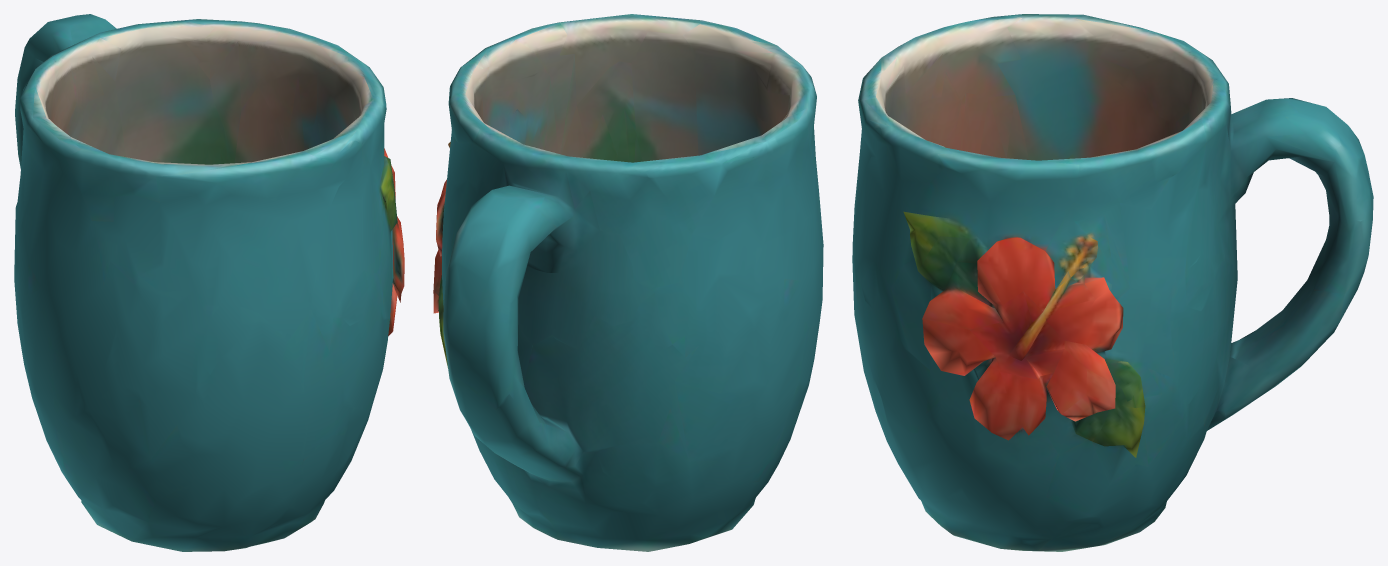
File: SM_Kitchen_Mug.glb
3 renders of one model, left to right at view 1: azimuth 30°, elevation 25°; view 2: azimuth 150°, elevation 25°; view 3: azimuth 270°, elevation 25°, orthographic.
Parts seen in each view (by area): view 1: tripo_node_81b300c0-50aa-4086-b82f-370c9c683764; view 2: tripo_node_81b300c0-50aa-4086-b82f-370c9c683764; view 3: tripo_node_81b300c0-50aa-4086-b82f-370c9c683764.
Part boxes in pixels (<box>): tripo_node_81b300c0-50aa-4086-b82f-370c9c683764: <box>14,14,404,551</box>; tripo_node_81b300c0-50aa-4086-b82f-370c9c683764: <box>433,14,823,551</box>; tripo_node_81b300c0-50aa-4086-b82f-370c9c683764: <box>852,14,1373,551</box>.
Bounding box in the file's own units: 0.7512 × 0.8829 × 1.
1 material, 1 textured.
